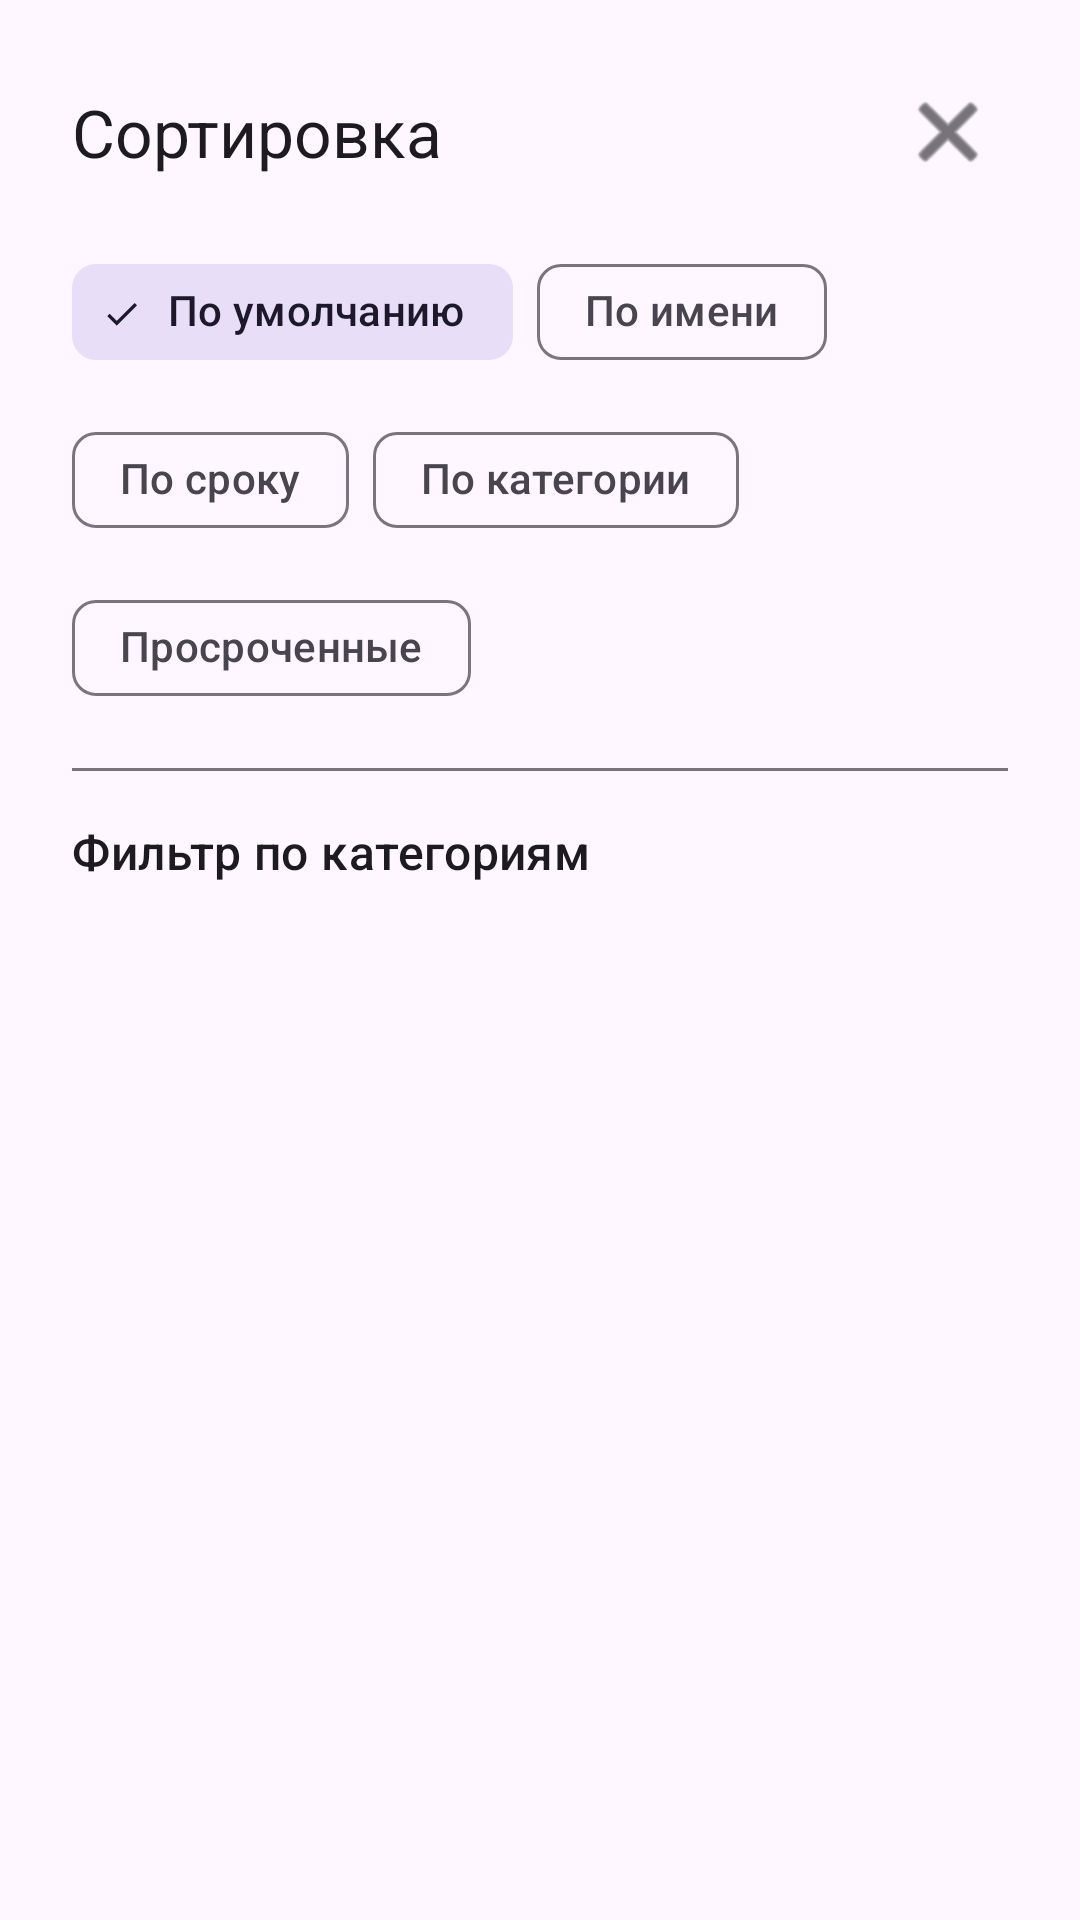

Screen size 1080px×1920px. Icon name, then its center in pixels as (x=x, y=y):
close clear cancel: (x=948, y=132)
